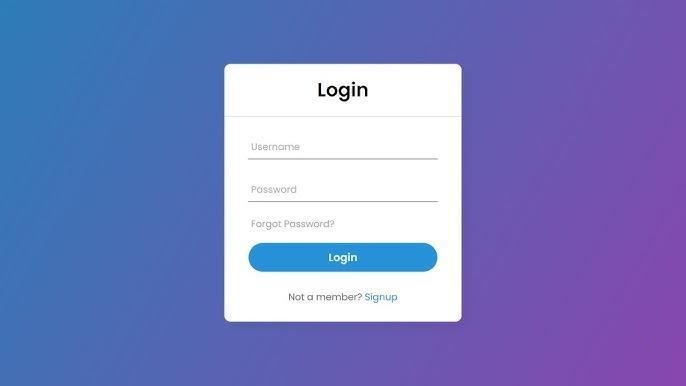button: (250, 242, 438, 274)
label: (251, 142, 302, 153), (252, 185, 298, 195)
